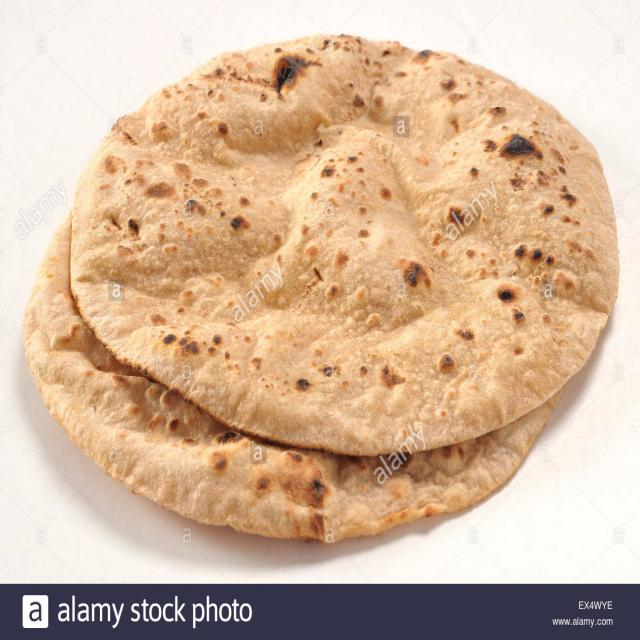roti: (18, 40, 614, 539)
